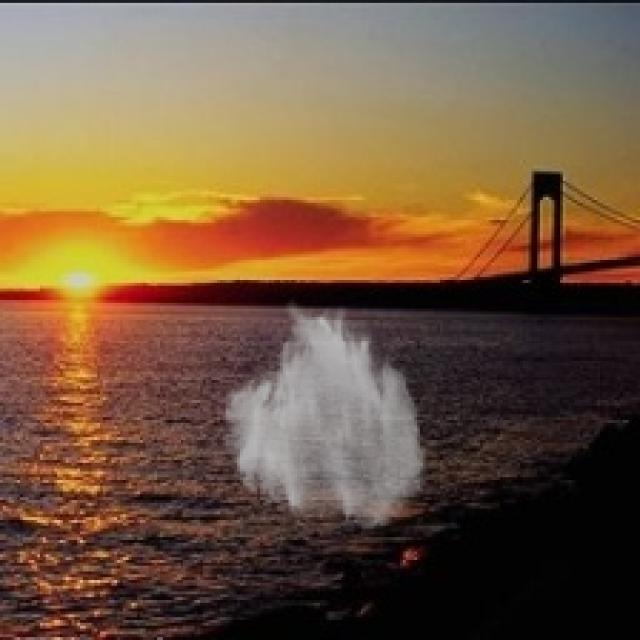Smoke: (221, 297, 428, 534)
